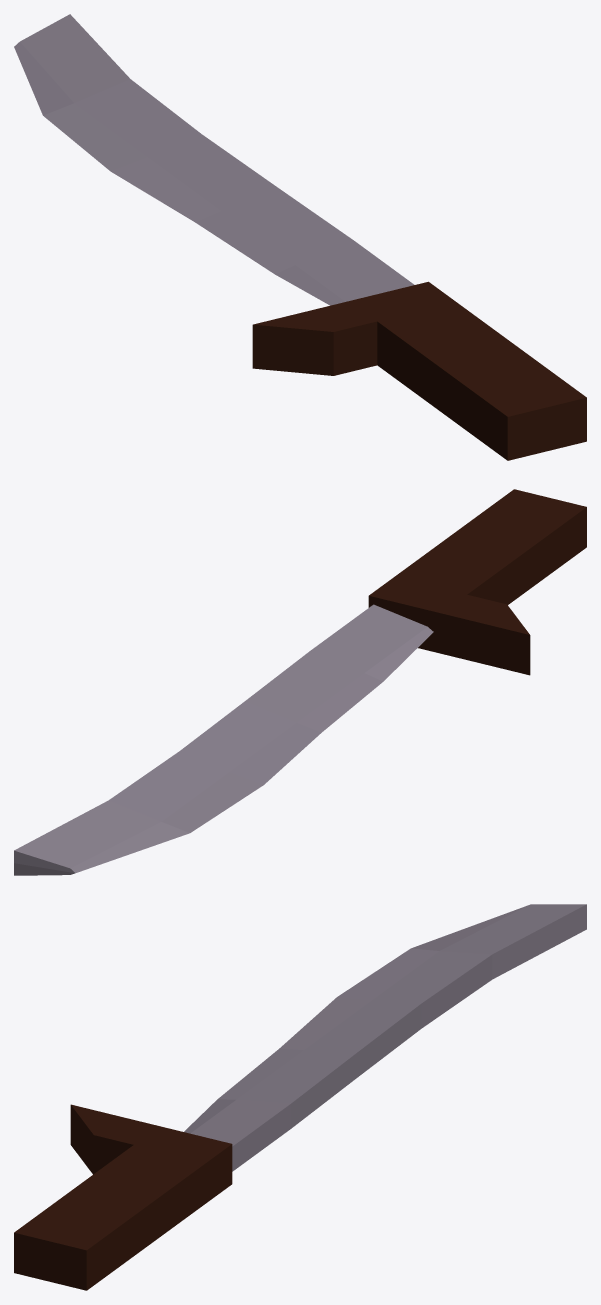
Rendered from Machete01.fbx.
The picture shows the model from 3 angles, top to bottom: view 1: azimuth 30°, elevation 25°; view 2: azimuth 150°, elevation 25°; view 3: azimuth 330°, elevation 25°; orthographic projection. The views are drawn at different scales.
Visible parts, largest first — view 1: Machete; view 2: Machete; view 3: Machete.
Part boxes in pixels (x1,y1,x2,y2): Machete: [14, 14, 586, 460]; Machete: [14, 489, 586, 875]; Machete: [14, 904, 586, 1290].
Bounding box in the file's own units: 26.63 × 5.9 × 129.
